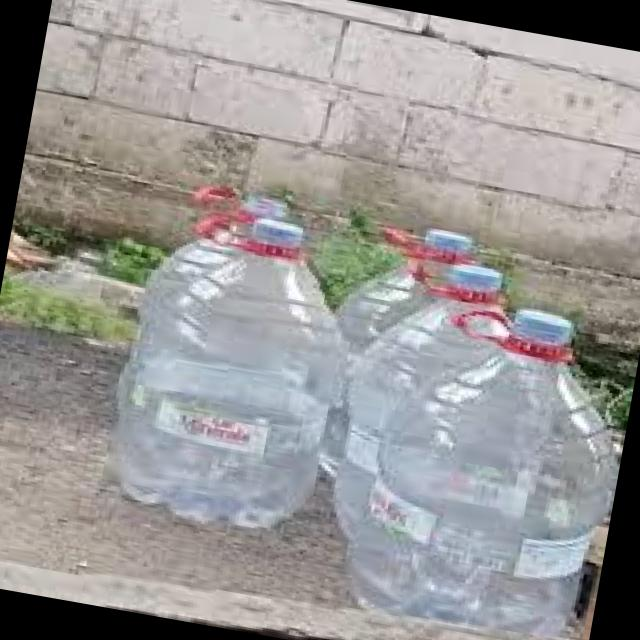Galon: (67, 163, 640, 640)
